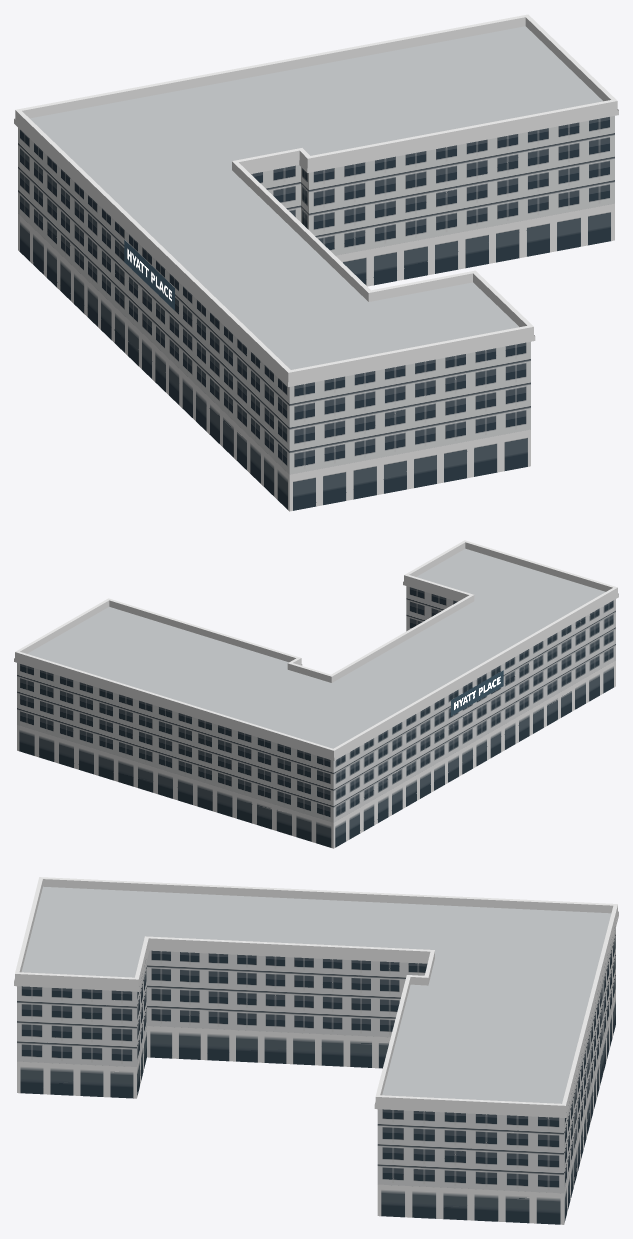
The model's file is hyattplace.glb.
The picture shows the model from 3 angles, top to bottom: view 1: azimuth 30°, elevation 25°; view 2: azimuth 150°, elevation 25°; view 3: azimuth 270°, elevation 25°; orthographic projection. The views are drawn at different scales.
Parts seen in each view (by area): view 1: hyattplace_lod0; view 2: hyattplace_lod0; view 3: hyattplace_lod0.
Boxes of the visible parts, x1,y1,x2,y2 form: hyattplace_lod0: (14,14,618,511); hyattplace_lod0: (14,540,618,848); hyattplace_lod0: (14,877,618,1224).
Size of what is drawn, in the model's own units: 70.17 by 17.1 by 78.17.
Materials: 5 (3 with a texture image).
